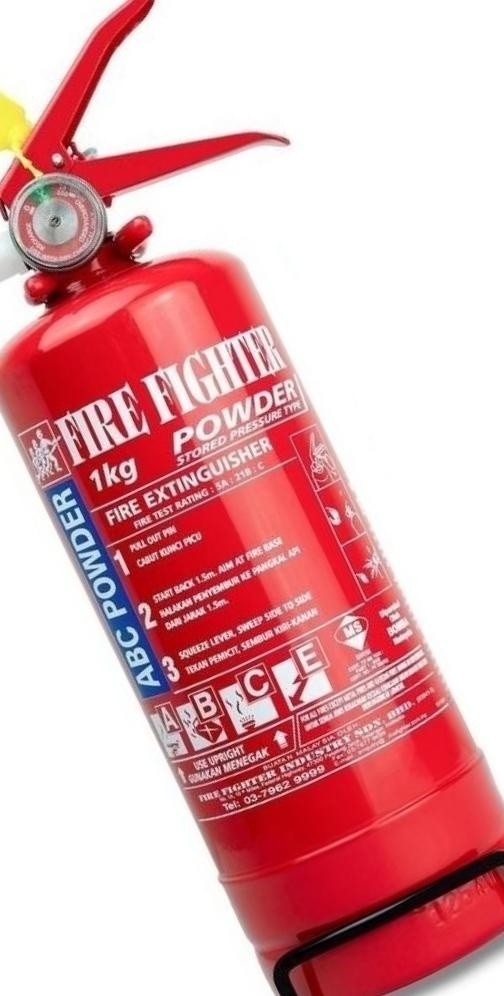fire_extinguisher: (1, 0, 503, 994)
